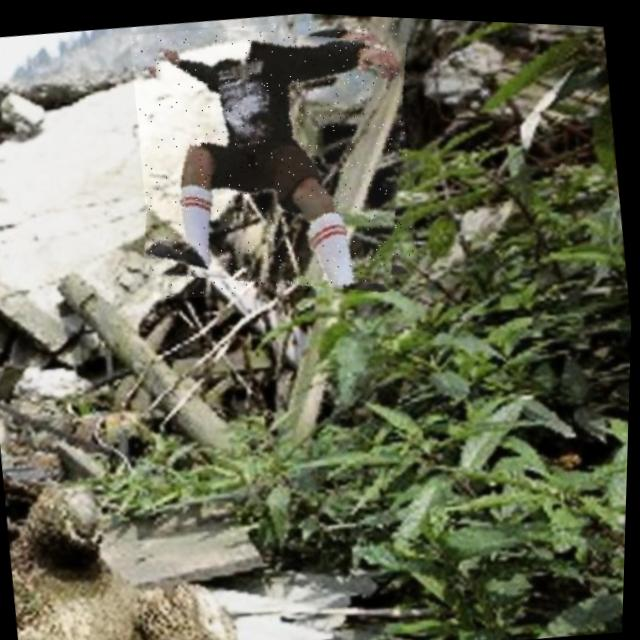Person in Rubble: (123, 5, 426, 308)
